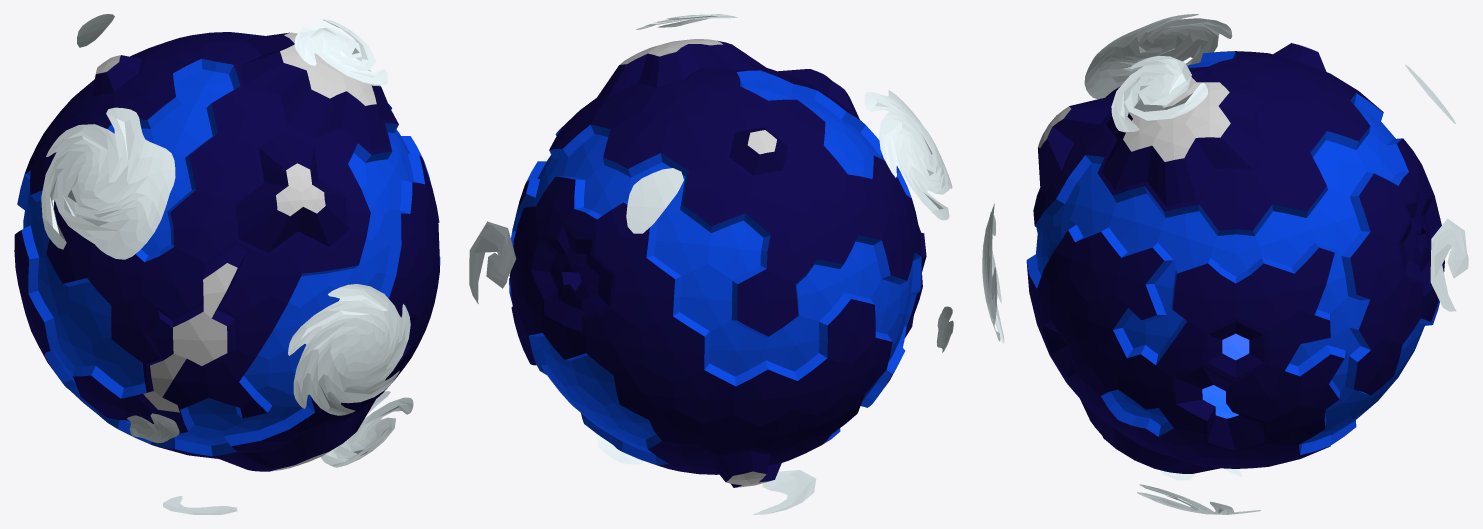
The model's file is Planet5Evo5.glb.
The picture shows the model from 3 angles, left to right: view 1: azimuth 30°, elevation 25°; view 2: azimuth 150°, elevation 25°; view 3: azimuth 270°, elevation 25°; orthographic projection. The views are drawn at different scales.
Parts seen in each view (by area): view 1: Icosphere.041; view 2: Icosphere.041; view 3: Icosphere.041.
Part boxes in pixels (left/top/right/bottom): Icosphere.041: left=14, top=14, right=440, bottom=514; Icosphere.041: left=469, top=14, right=953, bottom=514; Icosphere.041: left=982, top=14, right=1468, bottom=514.
Size of the model in its own units: 1.91 by 2.19 by 2.11.
